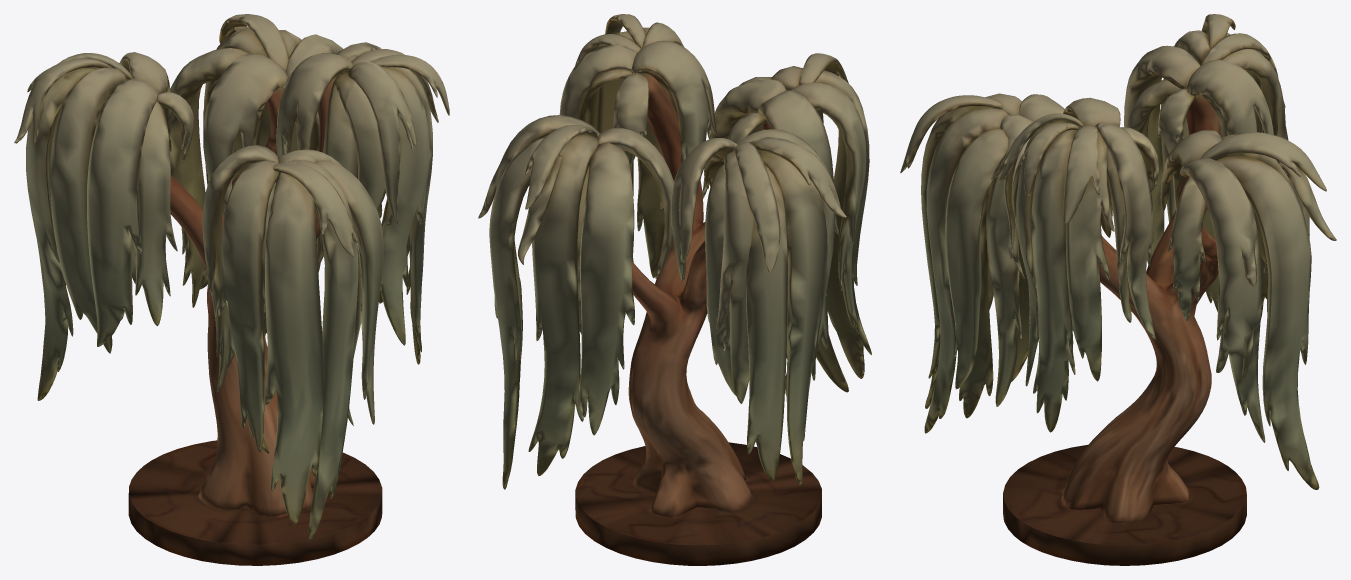
3 views of the same model, side by side, from view 1: azimuth 30°, elevation 25°; view 2: azimuth 150°, elevation 25°; view 3: azimuth 270°, elevation 25° (orthographic). The views are drawn at different scales.
Parts seen in each view (by area): view 1: tripo_node_ecac61d3; view 2: tripo_node_ecac61d3; view 3: tripo_node_ecac61d3.
Part boxes in pixels (x1,y1,x2,y2): tripo_node_ecac61d3: (14,14,449,565); tripo_node_ecac61d3: (478,14,871,565); tripo_node_ecac61d3: (900,14,1336,565).
Bounding box in the file's own units: 0.8169 × 0.9995 × 0.9019.
Materials: 1 (1 with a texture image).
